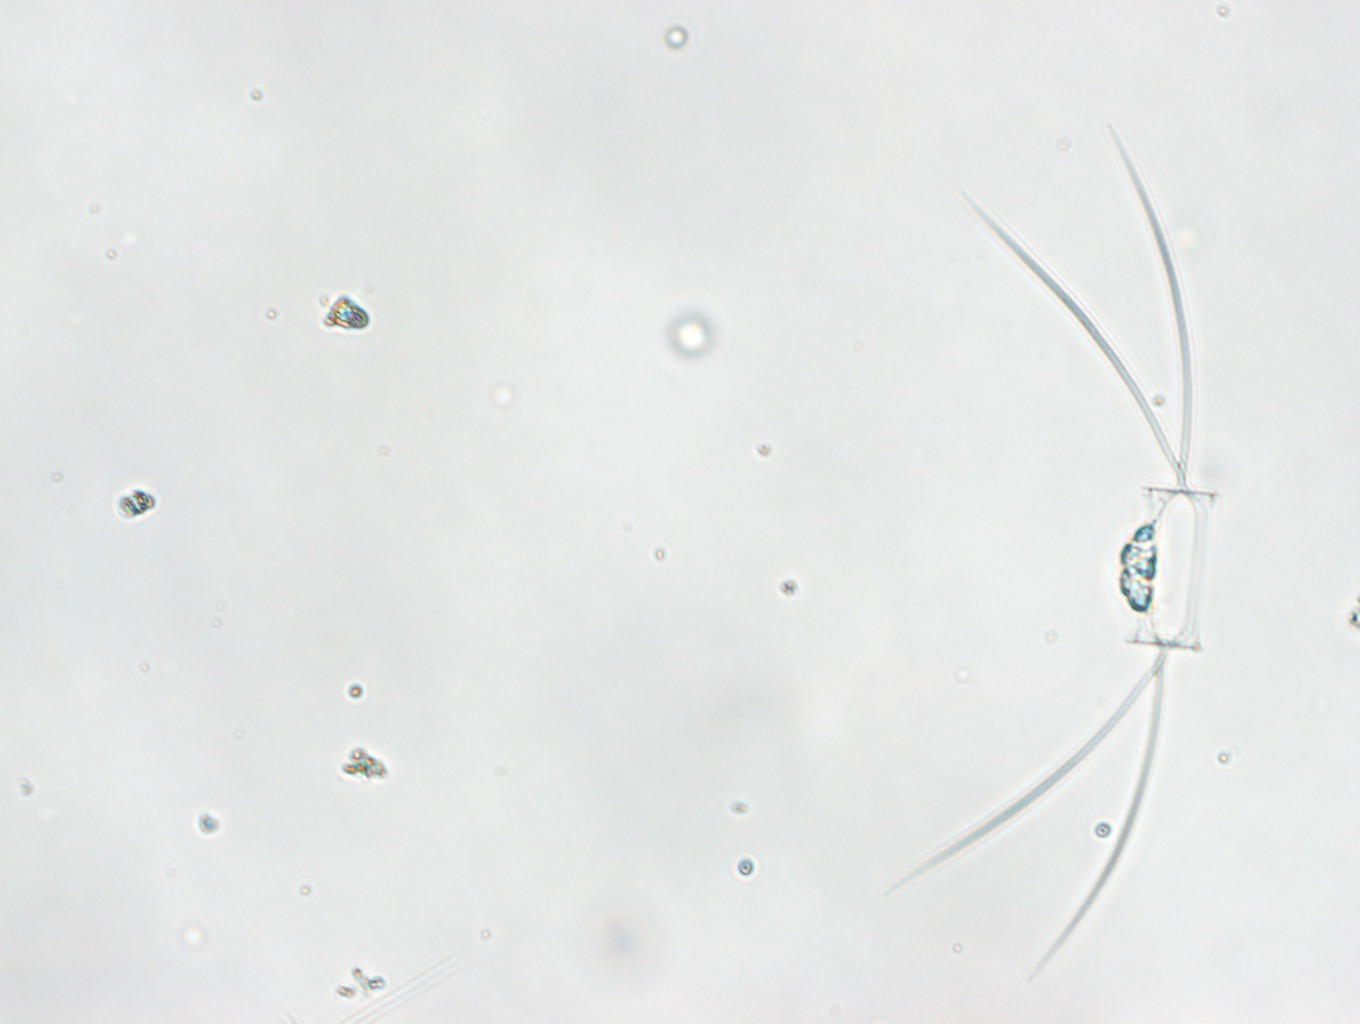chaetoceros: (882, 120, 1219, 985)
